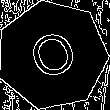O_SE: (22, 24, 83, 87)
